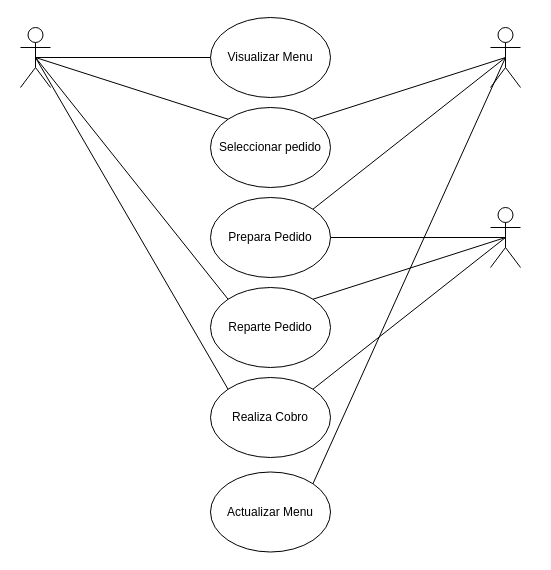
This 551x570 diagram has some shape labels left out. The shapes that lost their labels are listed below. From the top down, each one's centre as x and y in pixels, then its label:
At (35,57): "Cliente".
At (505,57): "Cocinero".
At (505,237): "Repartidor".
